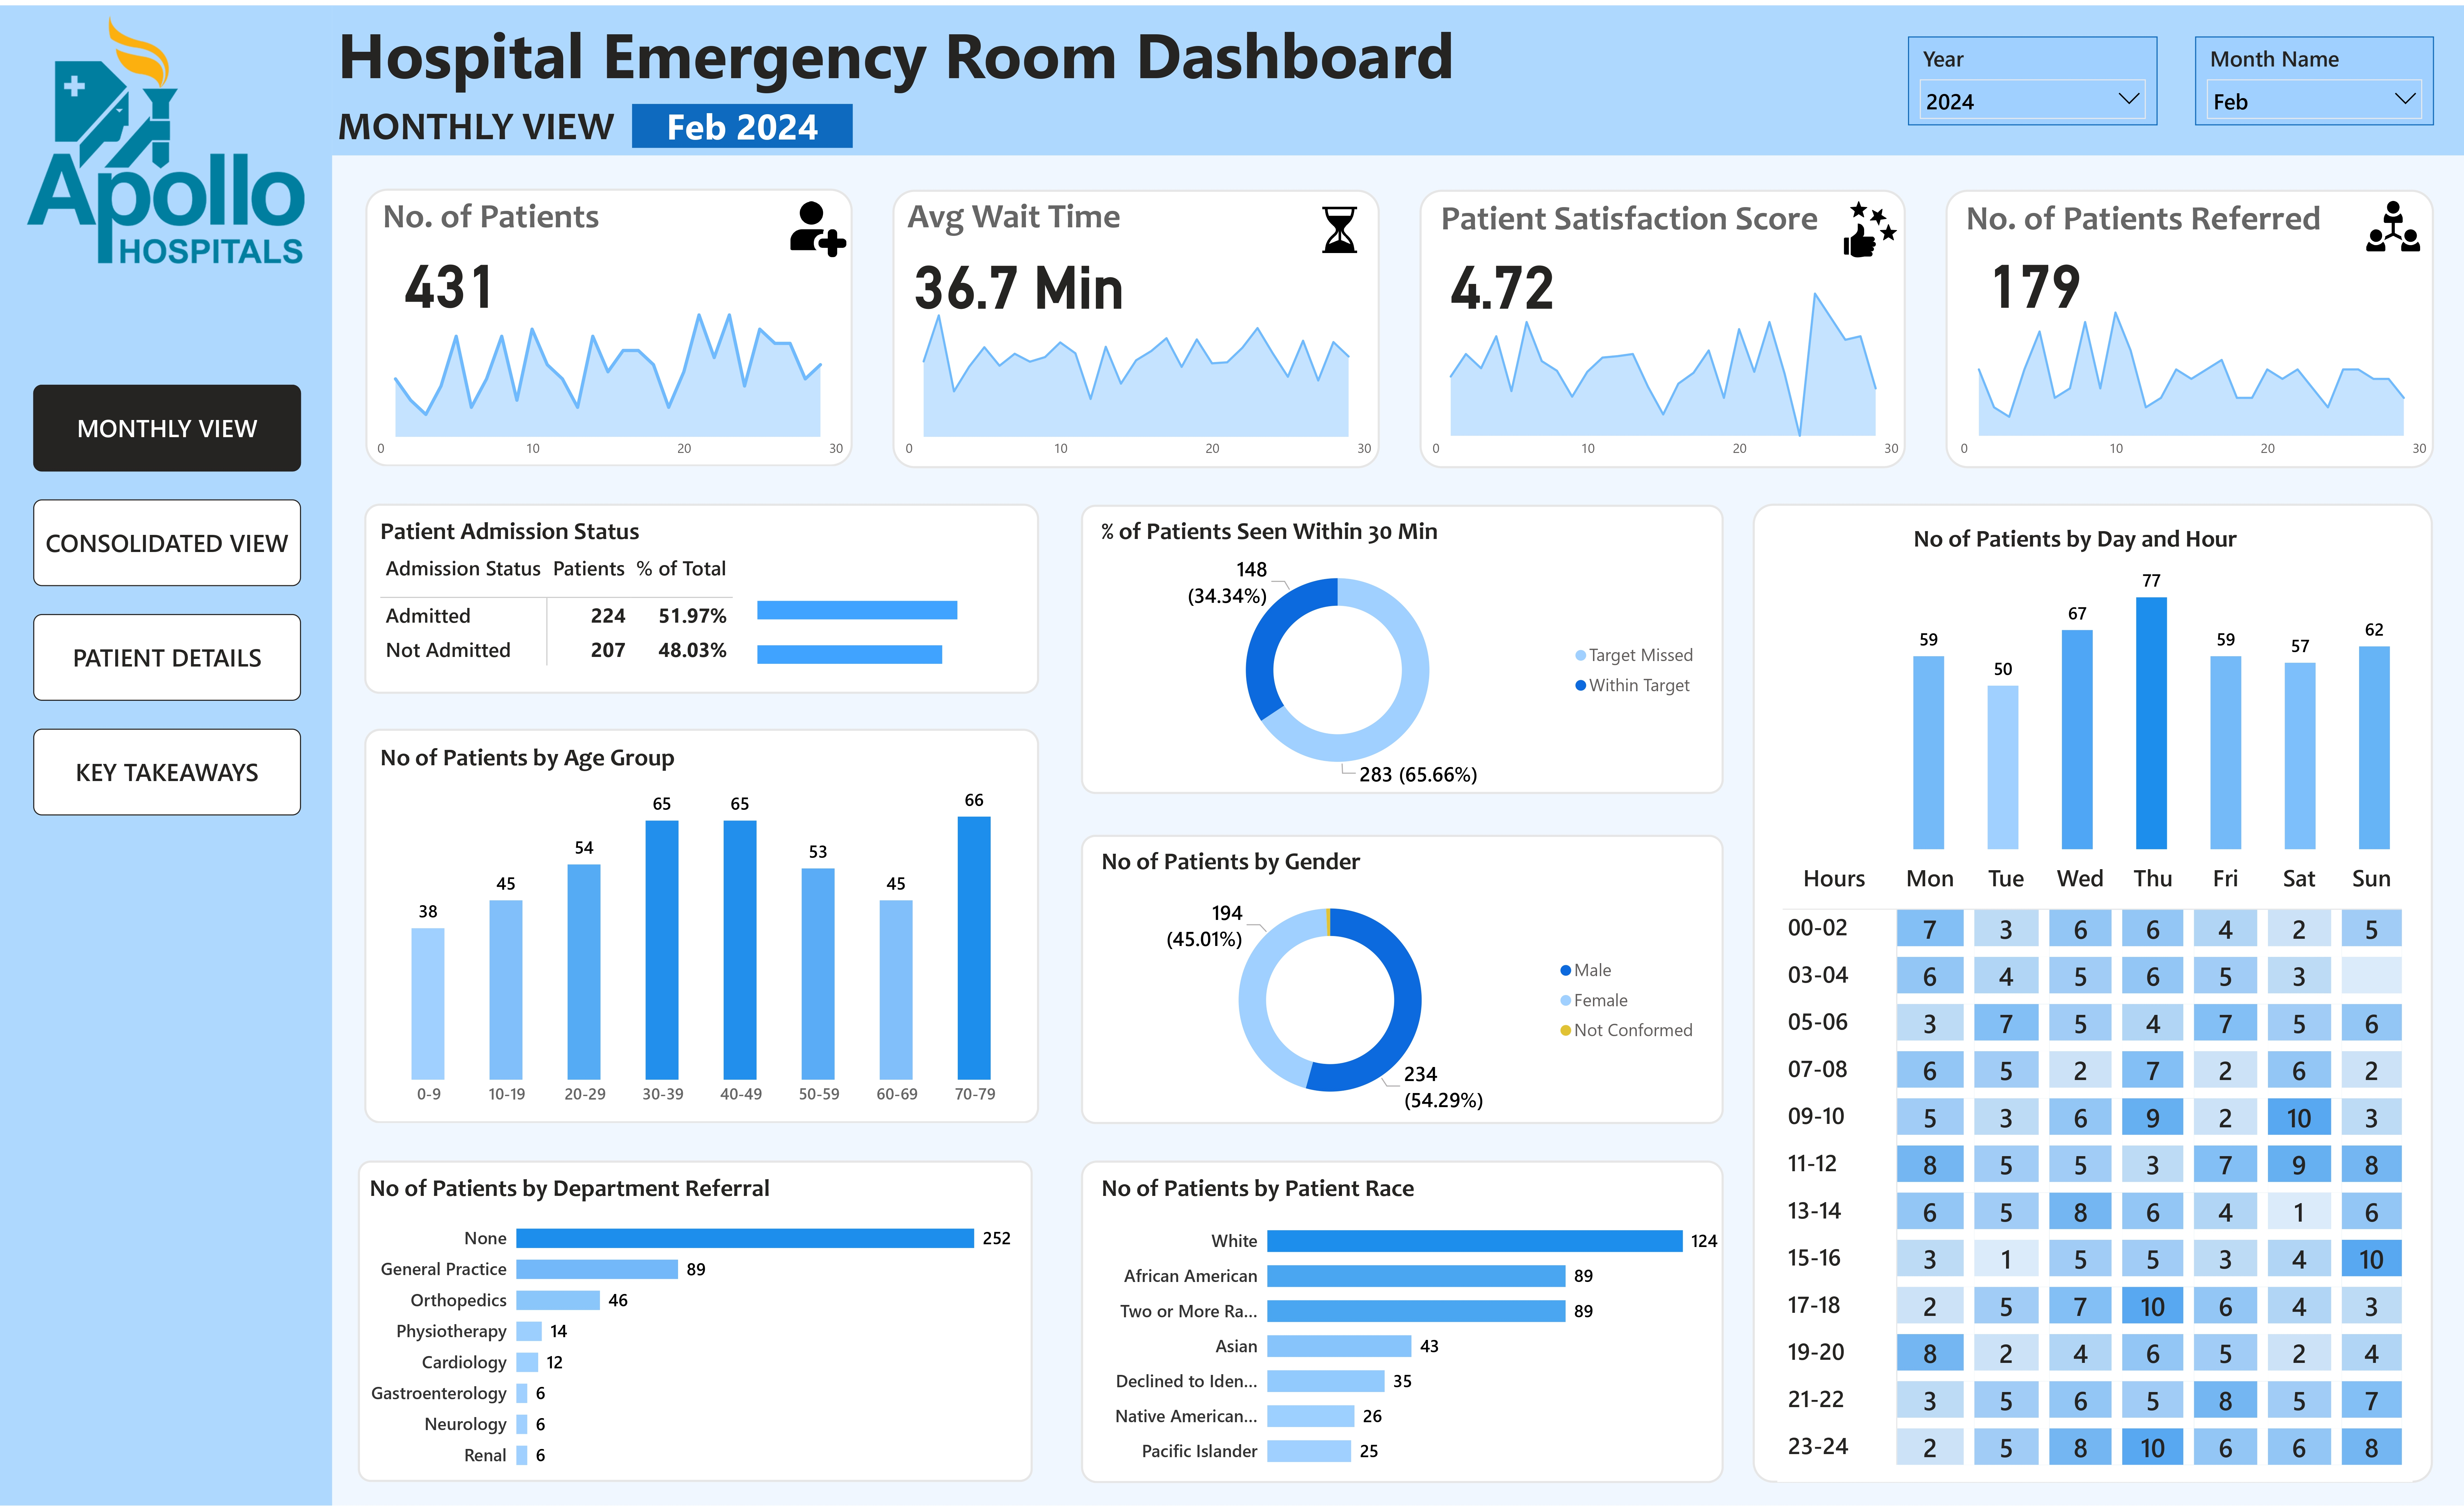

Layout of this report page (visuals, bound fields, positions):
{"tool":"powerbi","page":{"name":"MONTHLY VIEW","canvas":[2300,1400],"ordinal":0},"visuals":[{"type":"shape","box":[0,0,310,1400],"z":0},{"type":"shape","box":[310,0,1990,140],"z":1000},{"type":"textbox","box":[310,0,1065,112.5],"z":2000},{"type":"textbox","box":[310,84,290,57.3],"z":3000},{"type":"shape","box":[340.8,171.5,455,259.4],"z":4000},{"type":"card","fields":{"Values":["Hospital ER_Data.No of Patients"]},"box":[351.4,221.4,140,68.6],"z":5000},{"type":"slicer","fields":{"Values":["Date Table.Year"]},"box":[1781.1,28.9,233.3,83.3],"z":6000},{"type":"slicer","fields":{"Values":["Date Table.Month Name"]},"box":[2048.9,28.9,223.3,83.3],"z":7000},{"type":"textbox","box":[351.7,171.7,278.3,50],"z":8000},{"type":"areaChart","fields":{"Category":["Date Table.Date.Variation.Date Hierarchy.Day"],"Y":["Hospital ER_Data.No of Patients"]},"box":[340,255,455,176.7],"z":9000},{"type":"card","fields":{"Values":["Min(Date Table.Month & Year)"]},"box":[590,92,206,41.3],"z":10000},{"type":"shape","box":[832.8,171.7,455,260],"z":11000},{"type":"shape","box":[1324.9,172,454,260],"z":12000},{"type":"shape","box":[1816,172,456,260],"z":13000},{"type":"textbox","box":[842,172,278,50],"z":14000},{"type":"textbox","box":[1340,174,388,50],"z":15000},{"type":"textbox","box":[1830,174,402,50],"z":16000},{"type":"card","fields":{"Values":["Hospital ER_Data.Avg Wait Time"]},"box":[843.3,221.7,216.7,68.3],"z":17000},{"type":"card","fields":{"Values":["Hospital ER_Data.Satisfaction Score"]},"box":[1340,221.7,125,68.3],"z":18000},{"type":"card","fields":{"Values":["Hospital ER_Data.No of Patient Referred"]},"box":[1830,221.4,138.6,68.6],"z":19000},{"type":"areaChart","fields":{"Category":["Date Table.Date.Variation.Date Hierarchy.Day"],"Y":["Avg(Hospital ER_Data.Patient Waittime)"]},"box":[833.3,255,455,176.7],"z":20000},{"type":"areaChart","fields":{"Category":["Date Table.Date.Variation.Date Hierarchy.Day"],"Y":["Hospital ER_Data.Satisfaction Score"]},"box":[1325,255,455,176.7],"z":21000},{"type":"areaChart","fields":{"Category":["Date Table.Date.Variation.Date Hierarchy.Day"],"Y":["Hospital ER_Data.No of Patient Referred"]},"box":[1818.3,255,455,176.7],"z":22000},{"type":"shape","box":[340,465,630,177.5],"z":23000},{"type":"pivotTable","title":"Patient Admission Status","fields":{"Rows":["Hospital ER_Data.Admission Status"],"Values":["Hospital ER_Data.No of Patients","Divide(Hospital ER_Data.No of Patients, ScopedEval(Hospital ER_Data.No of Patients, []))"]},"box":[350,475.7,611.4,155.7],"z":24000},{"type":"barChart","fields":{"Category":["Hospital ER_Data.Admission Status"],"Y":["Hospital ER_Data.No of Patients"]},"box":[701.7,521.7,260,121.7],"z":25000},{"type":"shape","box":[340,675,630,368.3],"z":26000},{"type":"clusteredColumnChart","fields":{"Category":["Hospital ER_Data.Age Group"],"Y":["Hospital ER_Data.No of Patients"]},"box":[350,687.3,610.9,349.1],"z":27000},{"type":"shape","box":[334,1078,630,300],"z":28000},{"type":"clusteredBarChart","fields":{"Category":["Hospital ER_Data.Department Referral"],"Y":["Hospital ER_Data.No of Patients"]},"box":[340,1088.9,612.2,290],"z":29000},{"type":"shape","box":[1009.1,466.1,600,270],"z":30000},{"type":"donutChart","title":"% of Patients Seen Within 30 Min","fields":{"Category":["Hospital ER_Data.Waittime Status"],"Y":["Hospital ER_Data.No of Patients"]},"box":[1023.3,475.6,572.2,260],"z":31000},{"type":"shape","box":[1008.9,774.4,600,270],"z":32000},{"type":"donutChart","title":"No of Patients by Gender","fields":{"Y":["Hospital ER_Data.No of Patients"],"Category":["Hospital ER_Data.Patient Gender"]},"box":[1023.3,784.4,572.2,260],"z":33000},{"type":"shape","box":[1008.9,1077.8,600,301.1],"z":34000},{"type":"clusteredBarChart","fields":{"Y":["Hospital ER_Data.No of Patients"],"Category":["Hospital ER_Data.Patient Race"]},"box":[1023.3,1088.9,586.7,288.9],"z":35000},{"type":"shape","box":[1636.2,465,635,913.8],"z":36000},{"type":"pivotTable","fields":{"Rows":["Hospital ER_Data.Waittime Interval"],"Columns":["Date Table.Day Name"],"Values":["Hospital ER_Data.No of Patients"]},"box":[1659,793,593,585],"z":37000},{"type":"columnChart","title":"No of Patients by Day and Hour","fields":{"Category":["Date Table.Day Name"],"Y":["Hospital ER_Data.No of Patients"]},"box":[1780.9,482.7,457.3,310],"z":38000},{"type":"image","box":[733.3,175,61.7,68.3],"z":39000},{"type":"image","box":[1213.8,182.5,73.8,52.5],"z":40000},{"type":"image","box":[1713,174,66,69],"z":41000},{"type":"image","box":[2204.3,174.3,60,64.3],"z":42000},{"type":"image","box":[0,0,310,255],"z":43000},{"type":"pageNavigator","box":[30.8,354,250.6,402.3],"z":44000}]}

Visuals, with their boxes in screenshot pixels (x1, y1, x2, y2), scaled from the page's 2300x1400 canvas onto the 2464x1511 screenshot:
shape: Rect(0, 0, 332, 1511)
shape: Rect(332, 0, 2464, 151)
textbox: Rect(332, 0, 1473, 121)
textbox: Rect(332, 91, 643, 153)
shape: Rect(365, 185, 853, 465)
card - Hospital ER_Data.No of Patients: Rect(376, 239, 527, 313)
slicer - Date Table.Year: Rect(1908, 31, 2158, 121)
slicer - Date Table.Month Name: Rect(2195, 31, 2434, 121)
textbox: Rect(377, 185, 675, 239)
areaChart - Date Table.Date.Variation.Date Hierarchy.Day x Hospital ER_Data.No of Patients: Rect(364, 275, 852, 466)
card - Min(Date Table.Month & Year): Rect(632, 99, 853, 144)
shape: Rect(892, 185, 1380, 466)
shape: Rect(1420, 185, 1906, 466)
shape: Rect(1945, 185, 2434, 466)
textbox: Rect(902, 185, 1200, 240)
textbox: Rect(1436, 188, 1851, 242)
textbox: Rect(1960, 188, 2391, 242)
card - Hospital ER_Data.Avg Wait Time: Rect(903, 239, 1136, 313)
card - Hospital ER_Data.Satisfaction Score: Rect(1436, 239, 1569, 313)
card - Hospital ER_Data.No of Patient Referred: Rect(1960, 239, 2109, 313)
areaChart - Date Table.Date.Variation.Date Hierarchy.Day x Avg(Hospital ER_Data.Patient Waittime): Rect(893, 275, 1380, 466)
areaChart - Date Table.Date.Variation.Date Hierarchy.Day x Hospital ER_Data.Satisfaction Score: Rect(1420, 275, 1907, 466)
areaChart - Date Table.Date.Variation.Date Hierarchy.Day x Hospital ER_Data.No of Patient Referred: Rect(1948, 275, 2436, 466)
shape: Rect(364, 502, 1039, 693)
"Patient Admission Status" pivotTable: Rect(375, 513, 1030, 682)
barChart - Hospital ER_Data.Admission Status x Hospital ER_Data.No of Patients: Rect(752, 563, 1030, 694)
shape: Rect(364, 729, 1039, 1126)
clusteredColumnChart - Hospital ER_Data.Age Group x Hospital ER_Data.No of Patients: Rect(375, 742, 1029, 1118)
shape: Rect(358, 1163, 1033, 1487)
clusteredBarChart - Hospital ER_Data.Department Referral x Hospital ER_Data.No of Patients: Rect(364, 1175, 1020, 1488)
shape: Rect(1081, 503, 1724, 794)
"% of Patients Seen Within 30 Min" donutChart: Rect(1096, 513, 1709, 794)
shape: Rect(1081, 836, 1724, 1127)
"No of Patients by Gender" donutChart: Rect(1096, 847, 1709, 1127)
shape: Rect(1081, 1163, 1724, 1488)
clusteredBarChart - Hospital ER_Data.No of Patients x Hospital ER_Data.Patient Race: Rect(1096, 1175, 1725, 1487)
shape: Rect(1753, 502, 2433, 1488)
pivotTable - Hospital ER_Data.Waittime Interval x Date Table.Day Name: Rect(1777, 856, 2413, 1487)
"No of Patients by Day and Hour" columnChart: Rect(1908, 521, 2398, 855)
image: Rect(786, 189, 852, 263)
image: Rect(1300, 197, 1379, 254)
image: Rect(1835, 188, 1906, 262)
image: Rect(2362, 188, 2426, 257)
image: Rect(0, 0, 332, 275)
pageNavigator: Rect(33, 382, 301, 816)
